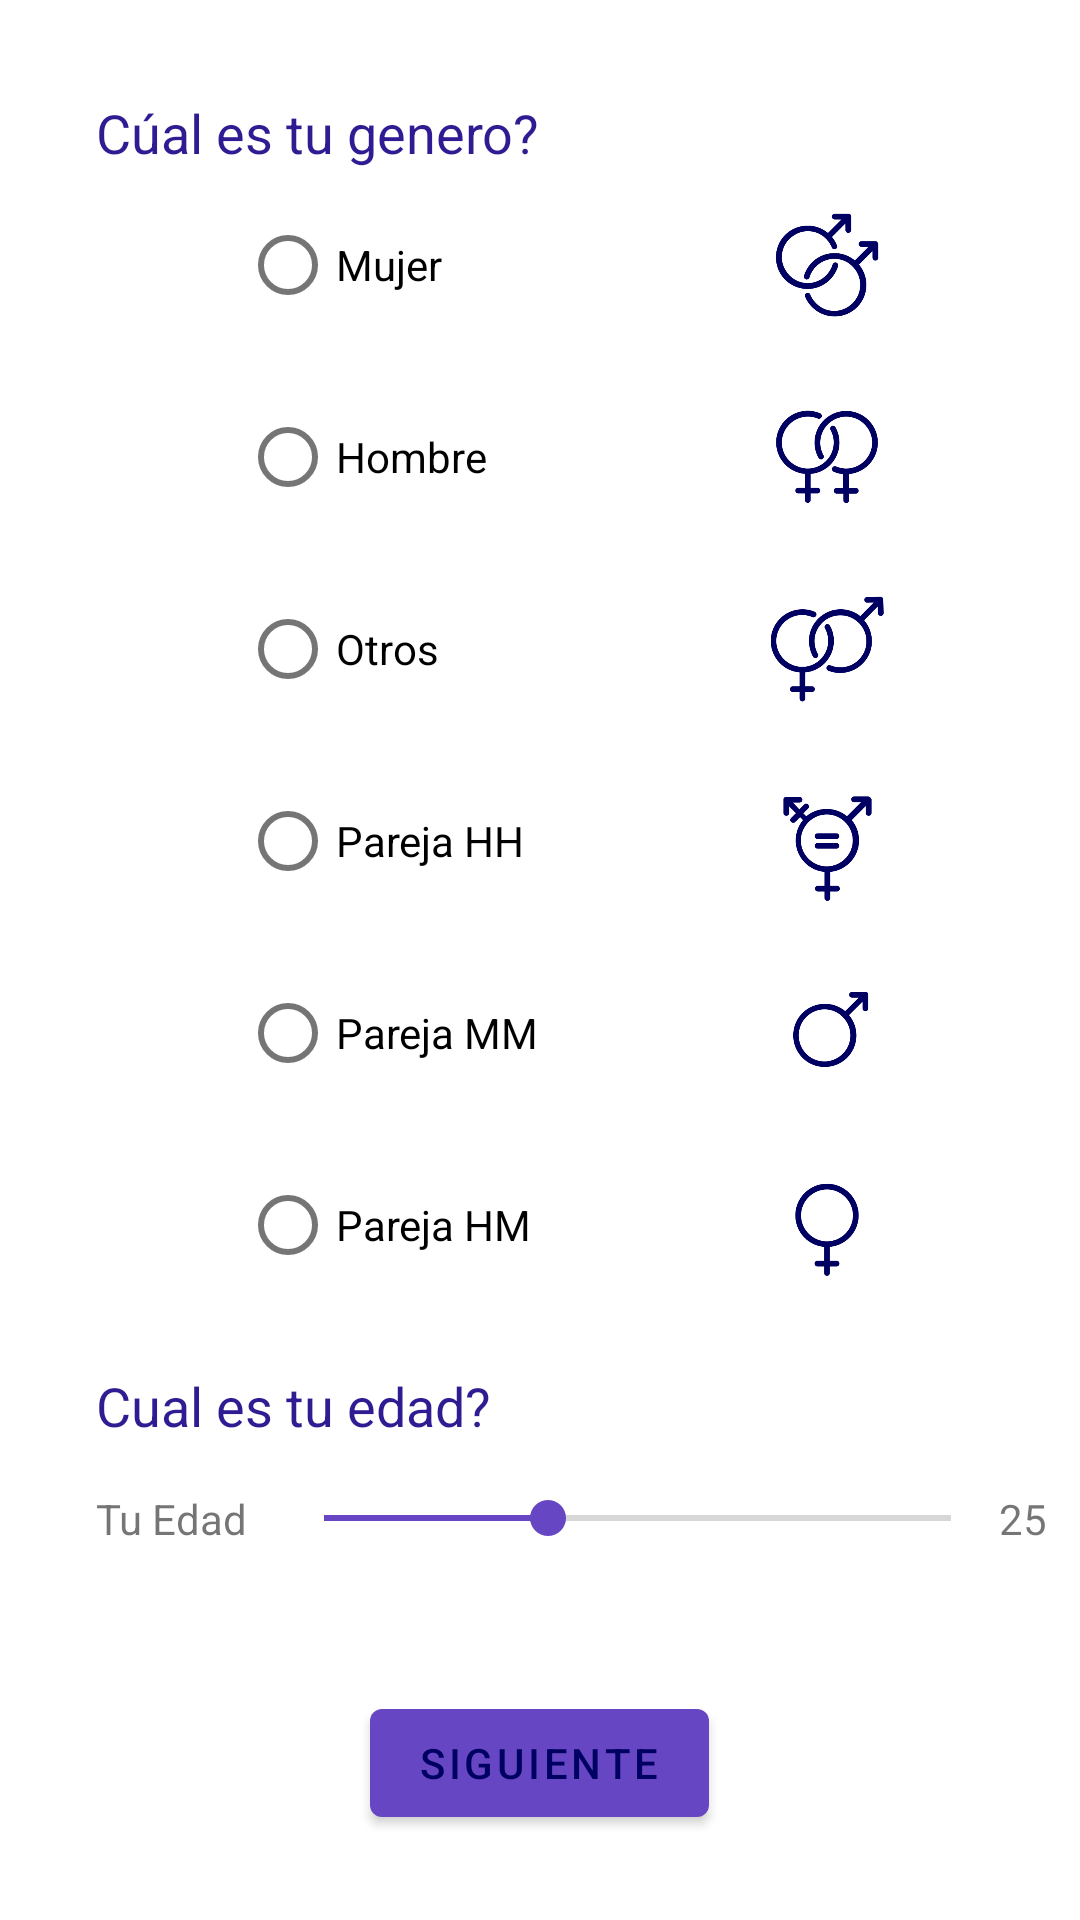

Where to tap for icons on this 1080w x 1920h app screen, as (x,y):
hombre: (830,1029)
mujer: (827,1230)
otro genero: (827,848)
pareja: (827,649)
pareja hombres: (827,265)
pareja mujeres: (827,456)
